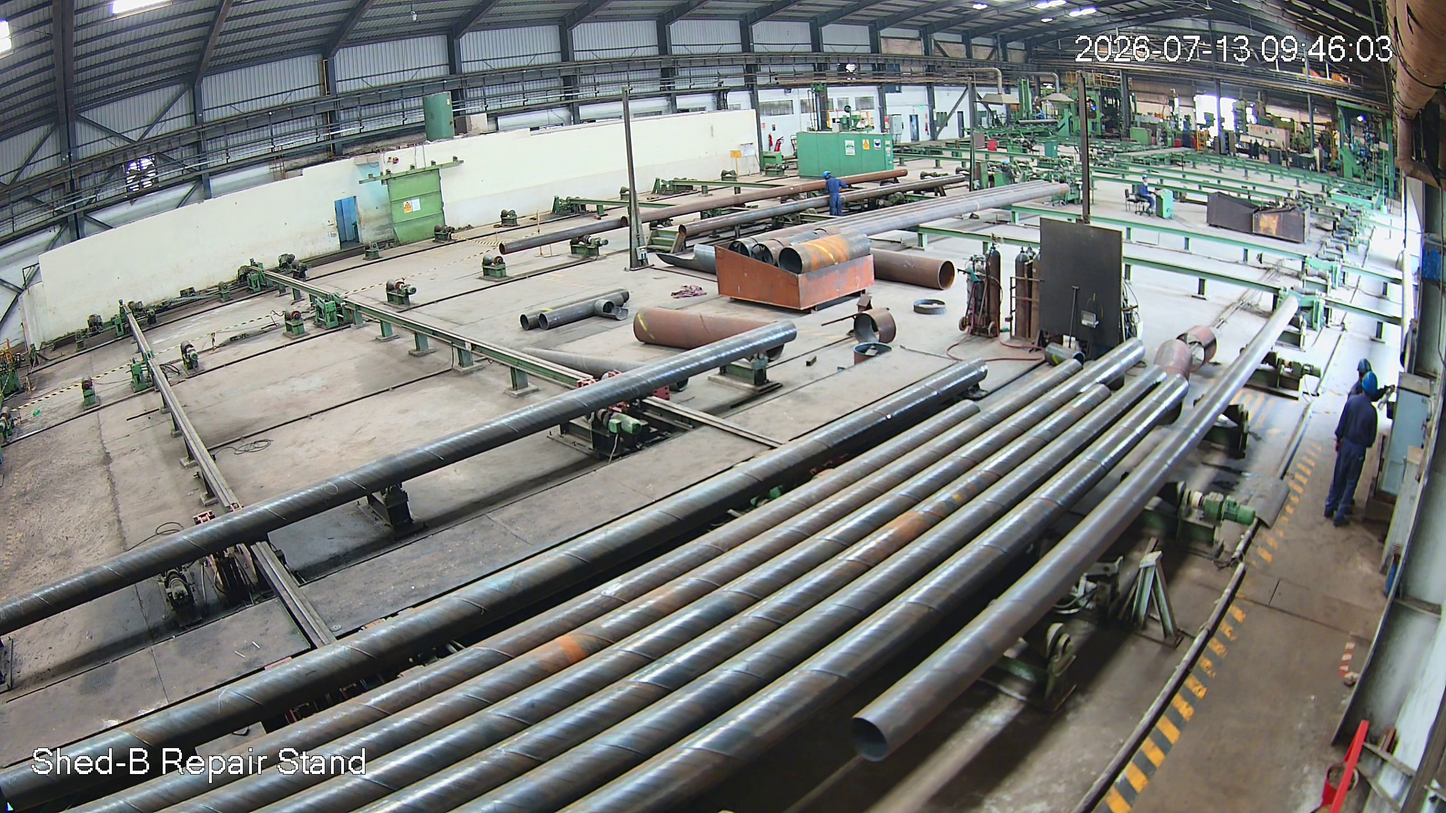Helmet: (1354, 365, 1382, 402), (821, 168, 840, 185)
Person: (1324, 372, 1386, 534), (823, 171, 847, 216)
